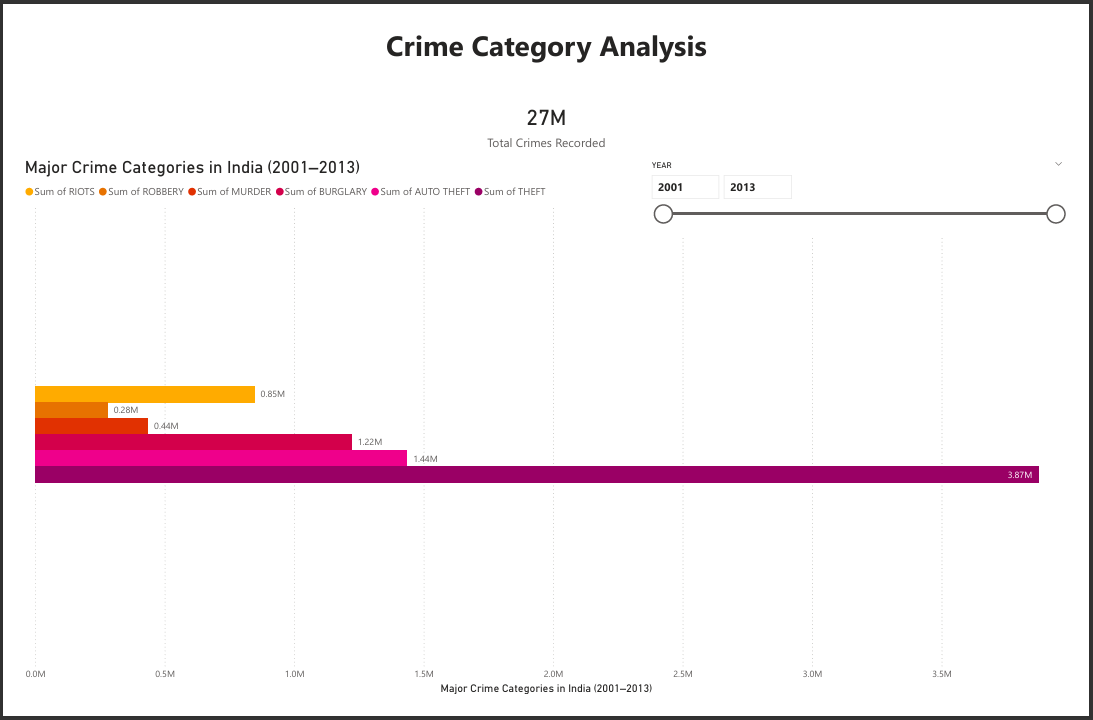

The dashboard page shown, as its layout file describes it:
{"tool":"powerbi","page":{"name":"Page 2","canvas":[1280,720],"ordinal":1},"visuals":[{"type":"clusteredBarChart","title":"Major Crime Categories in India (2001–2013)","fields":{"Y":["Sum(clean_crime_data.RIOTS)","Sum(clean_crime_data.ROBBERY)","Sum(clean_crime_data.MURDER)","Sum(clean_crime_data.BURGLARY)","Sum(clean_crime_data.AUTO THEFT)","Sum(clean_crime_data.THEFT)"]},"box":[0,180,1280,540],"z":0},{"type":"card","fields":{"Values":["Sum(clean_crime_data.TOTAL IPC CRIMES)"]},"box":[0,92,1280,88],"z":1000},{"type":"slicer","fields":{"Values":["clean_crime_data.YEAR"]},"box":[706,180,574,108],"z":2000},{"type":"textbox","box":[0,0,1280,91.7],"z":3000}]}

Visuals, with their boxes on the page's 1280x720 design canvas (x1, y1, x2, y2). These are canvas units, not pixel positions in the 1093x720 screenshot, which may show the page scaled, cropped or inside an application window:
"Major Crime Categories in India (2001–2013)" clusteredBarChart: locate(0, 180, 1280, 720)
card - Sum(clean_crime_data.TOTAL IPC CRIMES): locate(0, 92, 1280, 180)
slicer - clean_crime_data.YEAR: locate(706, 180, 1280, 288)
textbox: locate(0, 0, 1280, 92)
